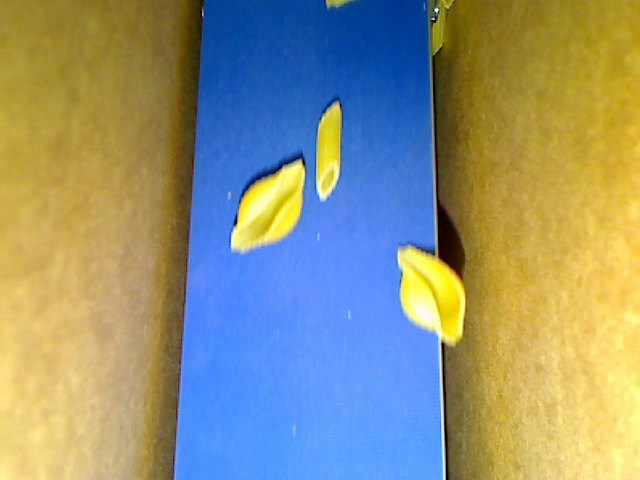penne: (312, 96, 344, 199), (431, 1, 445, 61), (441, 1, 459, 14)
shell: (395, 243, 466, 346), (229, 160, 304, 253)
